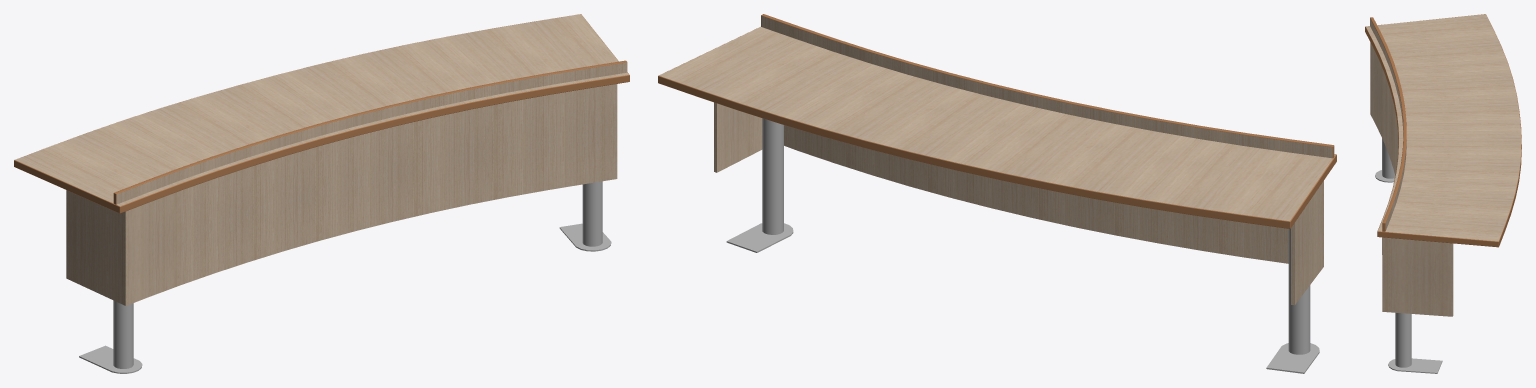
Rendered from SideTableB.fbx.
3 renders of one model, left to right at view 1: azimuth 30°, elevation 25°; view 2: azimuth 150°, elevation 25°; view 3: azimuth 270°, elevation 25°, orthographic. The views are drawn at different scales.
Parts seen in each view (by area): view 1: SideTableB; view 2: SideTableB; view 3: SideTableB.
Boxes of the visible parts, box(x1,y1,x2,y2) form: SideTableB: box(14, 14, 629, 373); SideTableB: box(658, 14, 1336, 373); SideTableB: box(1365, 14, 1521, 373).
Bounding box in the file's own units: 276 × 85.24 × 80.12.
3 materials, 1 textured.
